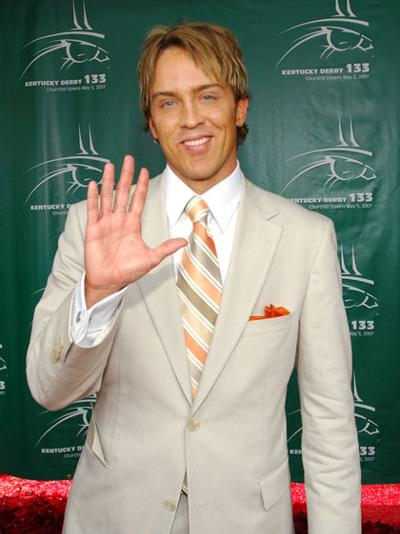person: (27, 25, 363, 534)
